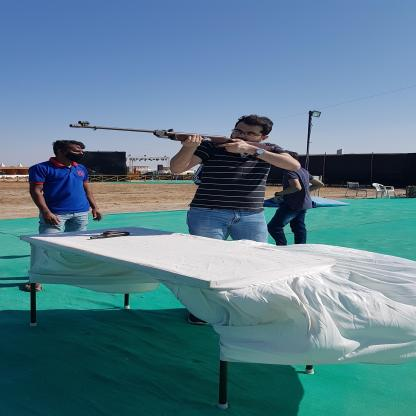rifle: (67, 120, 276, 154), (89, 230, 131, 240)
